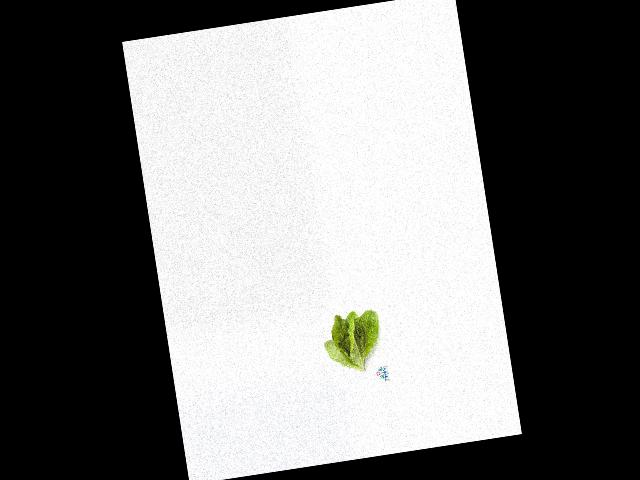lettuce: (318, 305, 384, 377)
